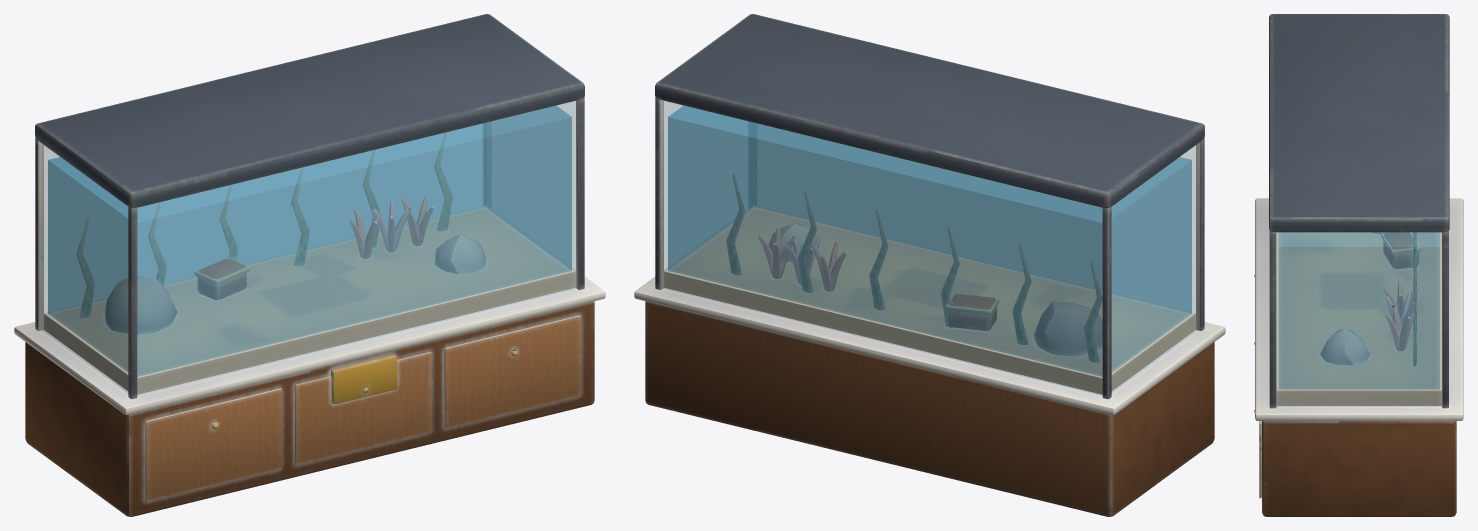
The model's file is aquarium.glb.
3 renders of one model, left to right at view 1: azimuth 30°, elevation 25°; view 2: azimuth 150°, elevation 25°; view 3: azimuth 270°, elevation 25°, orthographic. The views are drawn at different scales.
Visible parts, largest first — view 1: SM_Aquarium; view 2: SM_Aquarium; view 3: SM_Aquarium.
Boxes of the visible parts, bbox=[...] form: SM_Aquarium: bbox=[14, 14, 605, 516]; SM_Aquarium: bbox=[634, 14, 1225, 516]; SM_Aquarium: bbox=[1254, 14, 1463, 516].
Size of what is drawn, in the model's own units: 3.7 by 2.36 by 1.5.
Materials: 4 (1 with a texture image).
